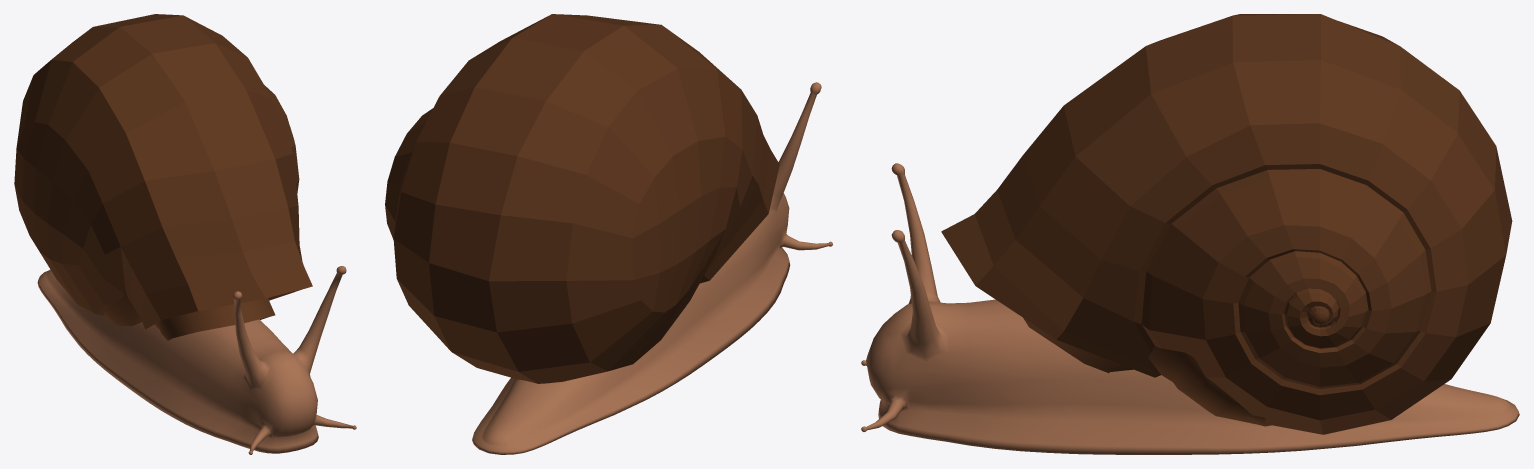
Rendered from snail.obj.
3 views of the same model, side by side, from view 1: azimuth 30°, elevation 25°; view 2: azimuth 150°, elevation 25°; view 3: azimuth 270°, elevation 25° (orthographic). The views are drawn at different scales.
Parts seen in each view (by area): view 1: snail_shell_copy, snail, snail_shell; view 2: snail_shell_copy, snail; view 3: snail_shell_copy, snail, snail_shell.
Boxes of the visible parts, left/top/right/bottom form: snail_shell_copy: left=14, top=14, right=312, bottom=329; snail: left=37, top=266, right=356, bottom=454; snail_shell: left=104, top=291, right=275, bottom=340; snail_shell_copy: left=385, top=14, right=779, bottom=383; snail: left=472, top=82, right=832, bottom=454; snail_shell_copy: left=941, top=14, right=1512, bottom=434; snail: left=861, top=163, right=1519, bottom=454; snail_shell: left=1023, top=318, right=1271, bottom=426.
Size of the model in its own units: 0.04 by 0.0458 by 0.069.
